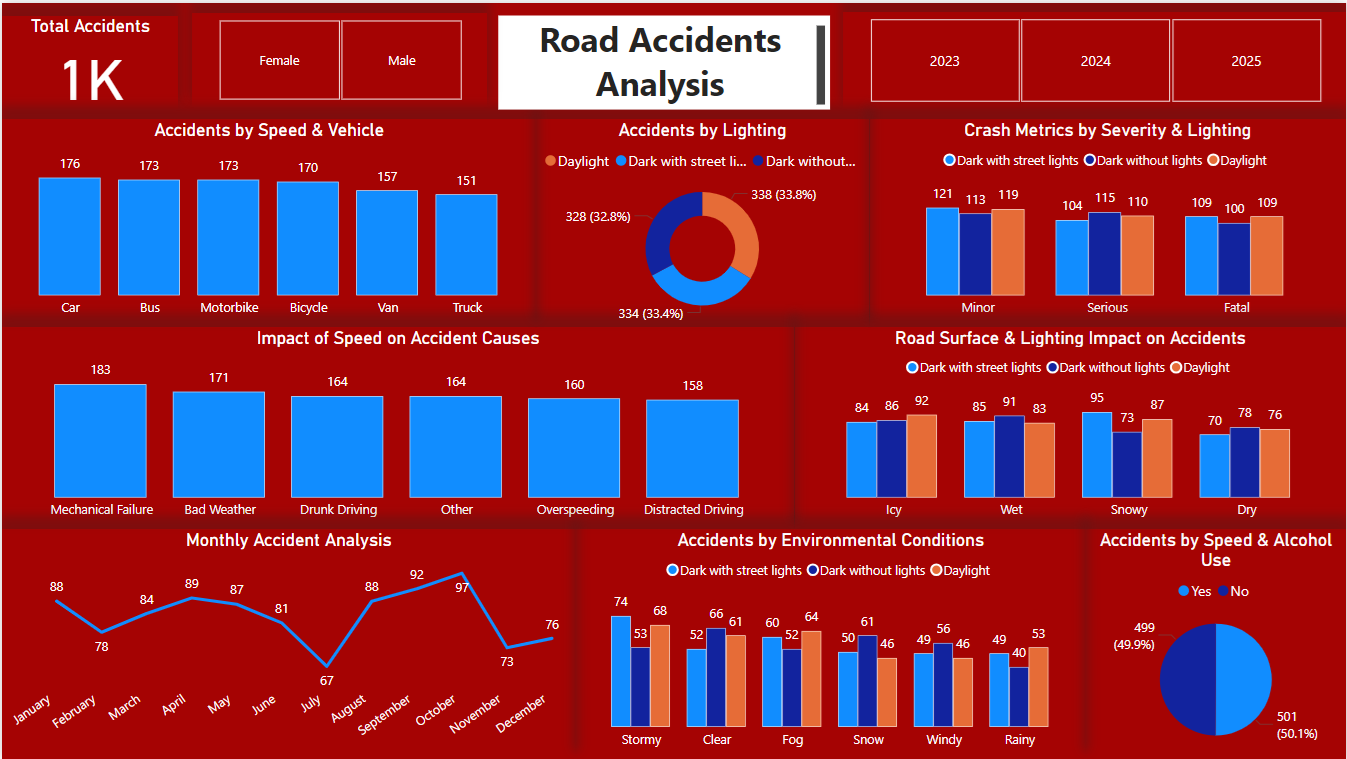

Layout of this report page (visuals, bound fields, positions):
{"tool":"powerbi","page":{"name":"Road Accident Analysis Dashboard","canvas":[1280,720],"ordinal":0},"visuals":[{"type":"card","title":"Total Accidents","fields":{"Values":["Count(road_accidents_dataset.Accident_ID)"]},"box":[0,11.6,168.4,90],"z":0},{"type":"pieChart","title":"Accidents by Speed & Alcohol Use","fields":{"Category":["road_accidents_dataset.Alcohol_Involved"],"Y":["CountNonNull(road_accidents_dataset.Accident_ID)"]},"box":[1032,501.2,248,218.5],"z":1000},{"type":"clusteredColumnChart","title":"Crash Metrics by Severity & Lighting","fields":{"Category":["road_accidents_dataset.Accident_Severity"],"Y":["CountNonNull(road_accidents_dataset.Accident_ID)"],"Series":["road_accidents_dataset.Light_Condition"]},"box":[826.3,110.5,453.7,197.9],"z":2000},{"type":"columnChart","title":"Impact of Speed on Accident Causes","fields":{"Category":["road_accidents_dataset.Cause_of_Accident"],"Y":["CountNonNull(road_accidents_dataset.Accident_ID)"]},"box":[0,308.4,754.4,192.8],"z":3000},{"type":"lineChart","title":"Monthly Accident Analysis","fields":{"Category":["road_accidents_dataset.Date.Variation.Date Hierarchy.Month"],"Y":["CountNonNull(road_accidents_dataset.Accident_ID)"]},"box":[0,501.2,546.2,218.5],"z":4000},{"type":"donutChart","title":"Accidents by Lighting","fields":{"Category":["road_accidents_dataset.Light_Condition"],"Y":["CountNonNull(road_accidents_dataset.Accident_ID)"]},"box":[508.9,110.5,317.4,197.9],"z":5000},{"type":"clusteredColumnChart","title":"Road Surface & Lighting Impact on Accidents","fields":{"Category":["road_accidents_dataset.Road_Surface"],"Y":["CountNonNull(road_accidents_dataset.Accident_ID)"],"Series":["road_accidents_dataset.Light_Condition"]},"box":[754.4,308.4,525.6,192.8],"z":6000},{"type":"columnChart","title":"Accidents by Speed & Vehicle","fields":{"Category":["road_accidents_dataset.Vehicle_Type"],"Y":["CountNonNull(road_accidents_dataset.Accident_ID)"]},"box":[0,110.5,508.9,197.9],"z":7000},{"type":"clusteredColumnChart","title":"Accidents by Environmental Conditions","fields":{"Category":["road_accidents_dataset.Weather_Condition"],"Y":["CountNonNull(road_accidents_dataset.Accident_ID)"],"Series":["road_accidents_dataset.Light_Condition"]},"box":[546.2,501.2,485.8,218.5],"z":8000},{"type":"textbox","box":[472.9,11.6,316.1,90],"z":9000},{"type":"slicer","fields":{"Values":["road_accidents_dataset.Date.Variation.Date Hierarchy.Year"]},"box":[800.8,7.9,478.9,92.6],"z":10000},{"type":"slicer","fields":{"Values":["road_accidents_dataset.Driver_Gender"]},"box":[180.6,9.4,281.1,89.5],"z":11000}]}

Visuals, with their boxes in screenshot pixels (x1, y1, x2, y2), scaled from the page's 1280x720 canvas onto the 1347x759 screenshot:
"Total Accidents" card: region(0, 12, 177, 107)
"Accidents by Speed & Alcohol Use" pieChart: region(1086, 528, 1346, 758)
"Crash Metrics by Severity & Lighting" clusteredColumnChart: region(870, 116, 1346, 325)
"Impact of Speed on Accident Causes" columnChart: region(0, 325, 794, 528)
"Monthly Accident Analysis" lineChart: region(0, 528, 575, 758)
"Accidents by Lighting" donutChart: region(536, 116, 870, 325)
"Road Surface & Lighting Impact on Accidents" clusteredColumnChart: region(794, 325, 1346, 528)
"Accidents by Speed & Vehicle" columnChart: region(0, 116, 536, 325)
"Accidents by Environmental Conditions" clusteredColumnChart: region(575, 528, 1086, 758)
textbox: region(498, 12, 830, 107)
slicer - road_accidents_dataset.Date.Variation.Date Hierarchy.Year: region(843, 8, 1346, 106)
slicer - road_accidents_dataset.Driver_Gender: region(190, 10, 486, 104)
